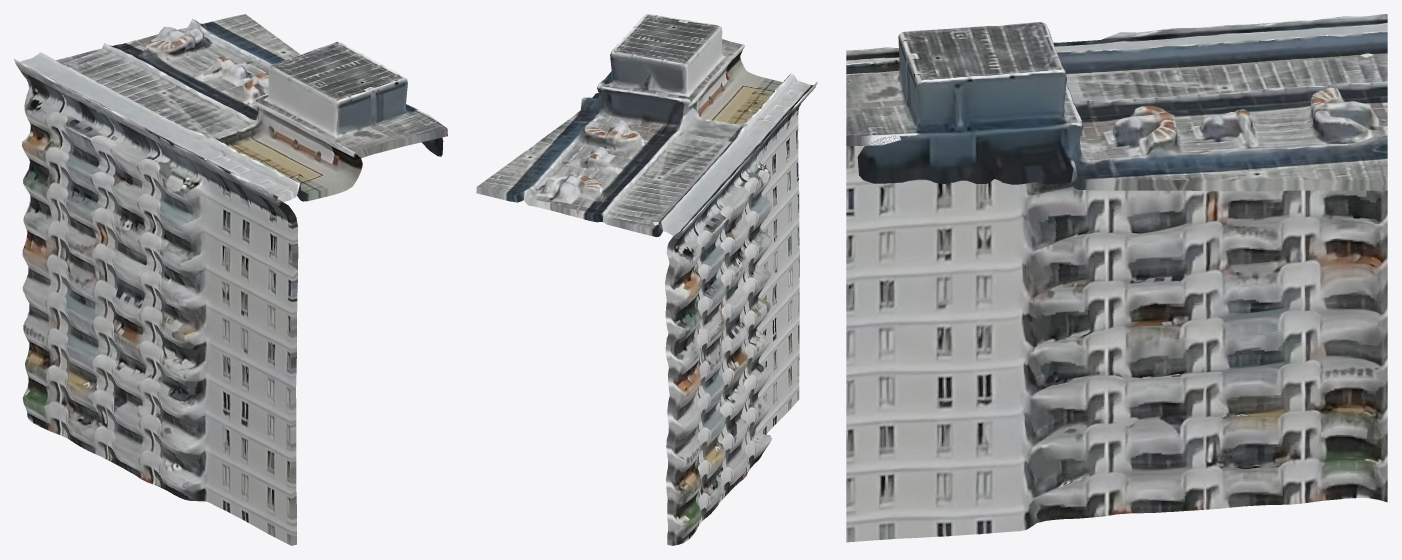
File: z20-167778-405216-h1-yup-uvflip-v3-world.glb
3 views of the same model, side by side, from view 1: azimuth 30°, elevation 25°; view 2: azimuth 150°, elevation 25°; view 3: azimuth 270°, elevation 25° (orthographic). The views are drawn at different scales.
Size of the model in its own units: 20.08 by 34.32 by 30.32.
1 material, 1 textured.
